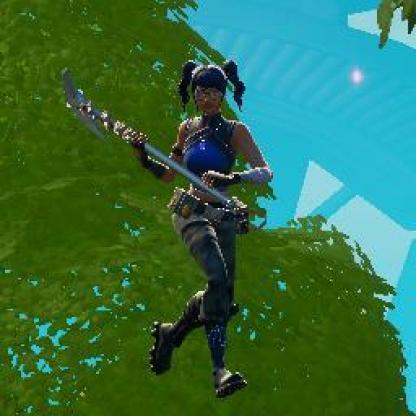dumpster: (126, 59, 274, 400)
